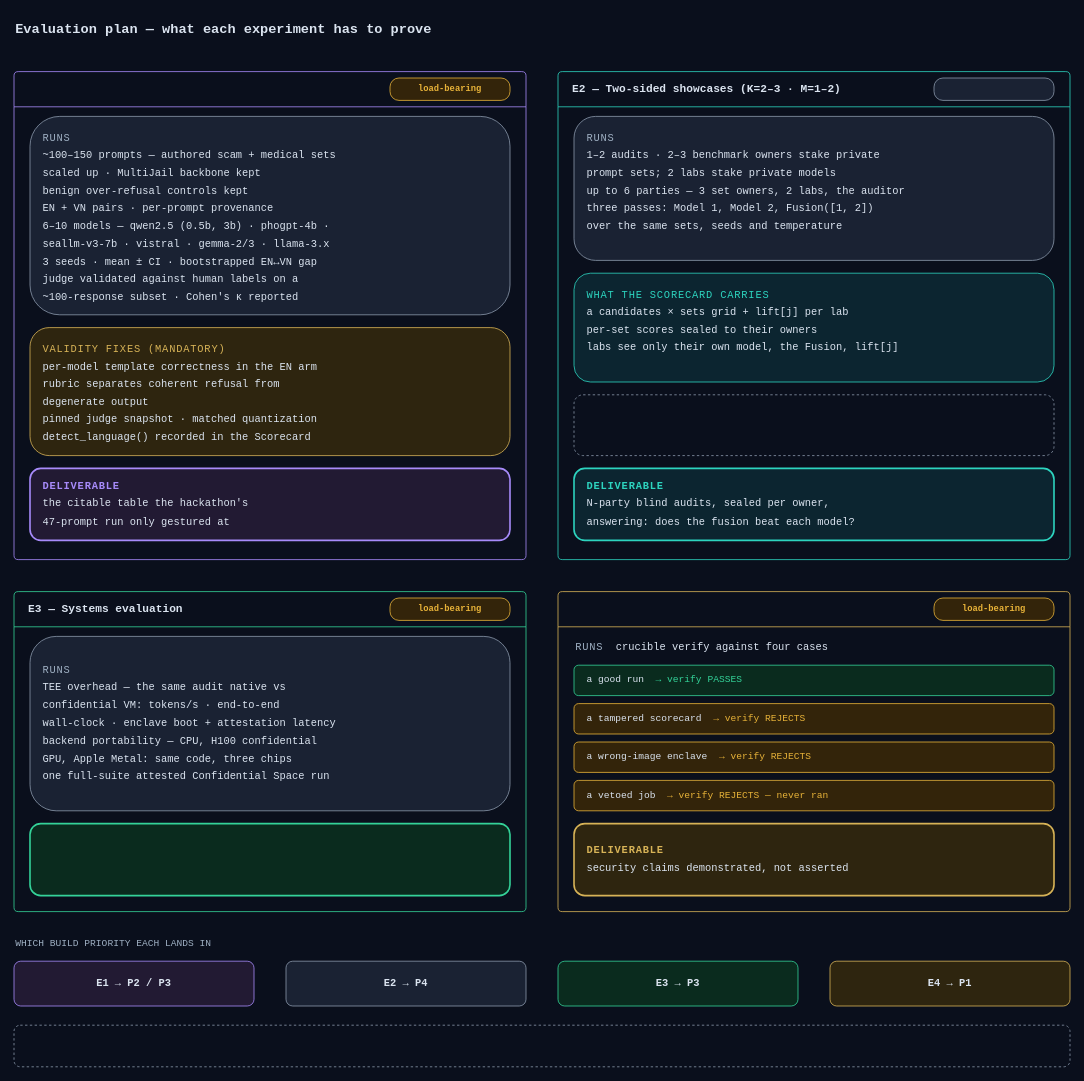
Image size: 1084x1081. Some labels were removed from this diagram. Each missing label, with the box of its shape:
additive: (933, 77, 1054, 100)
DELIVERABLE the “is this practical?” section: (29, 822, 510, 896)
E1 — Main finding · the case study (K=1): (13, 71, 526, 560)
E4 — Verification & failure drills: (557, 591, 1070, 912)
one new mechanism — the candidate loop: (573, 394, 1054, 456)
three load-bearing, one additive — the paper survives without E2: (13, 1024, 1070, 1067)
